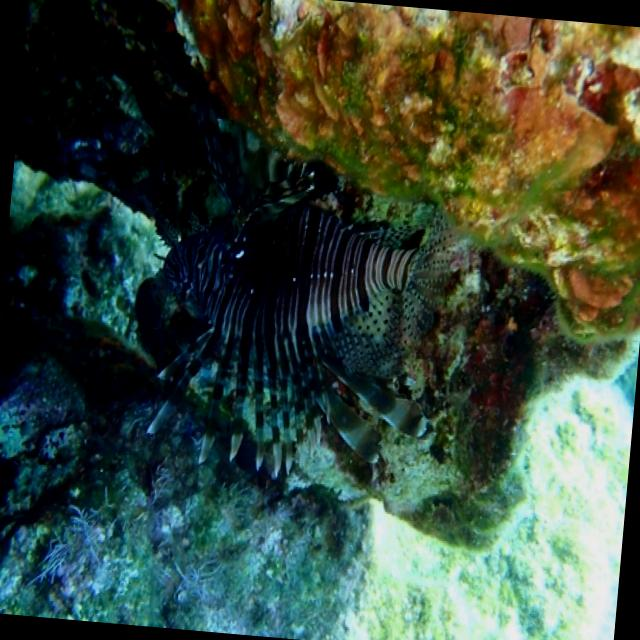Aslan Baligi: (96, 148, 480, 520)
